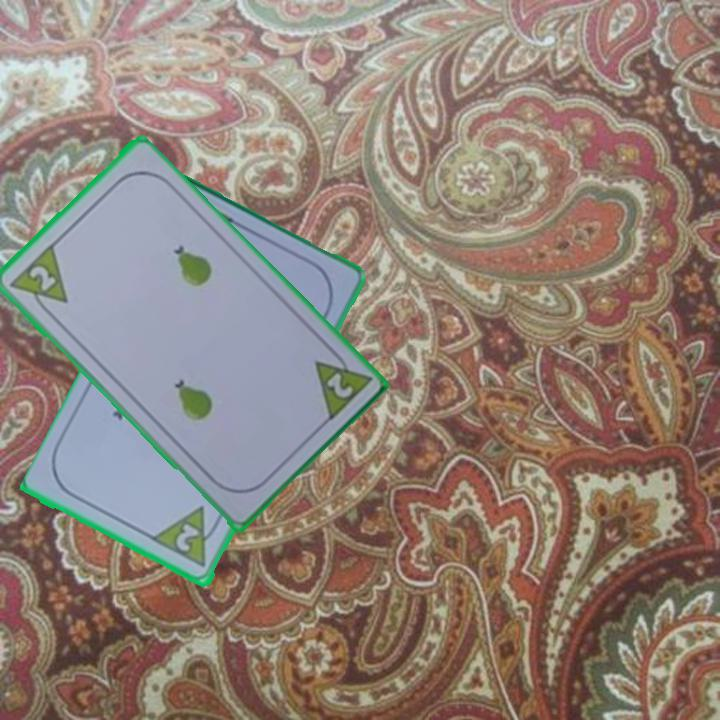2p: (4, 241, 71, 320), (310, 342, 373, 425), (172, 520, 202, 556)
